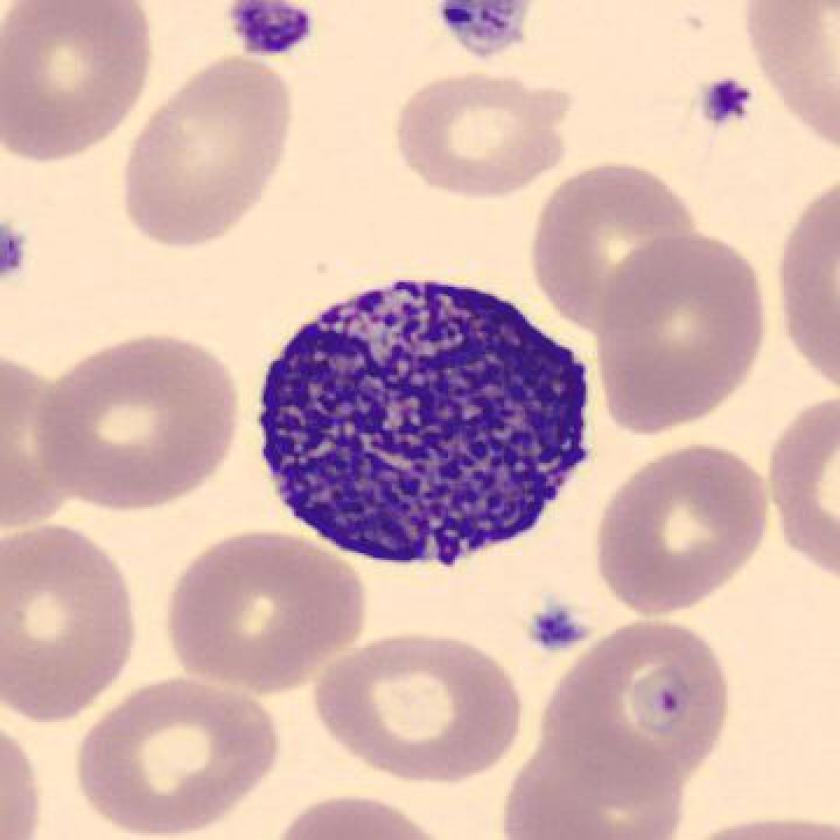basophil: (253, 270, 598, 566)
